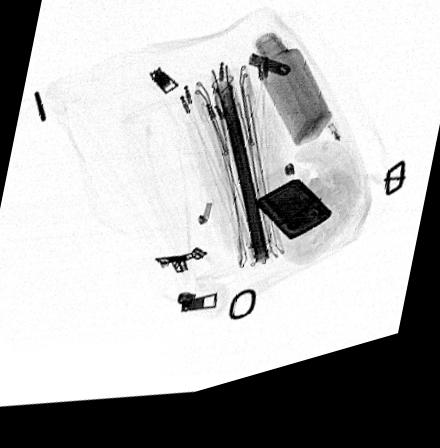Lighter: (254, 195, 331, 256)
